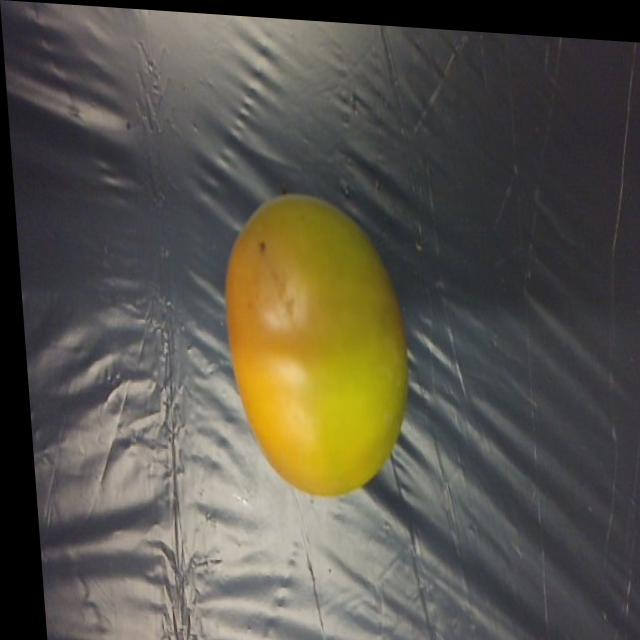sari: (215, 175, 403, 494)
